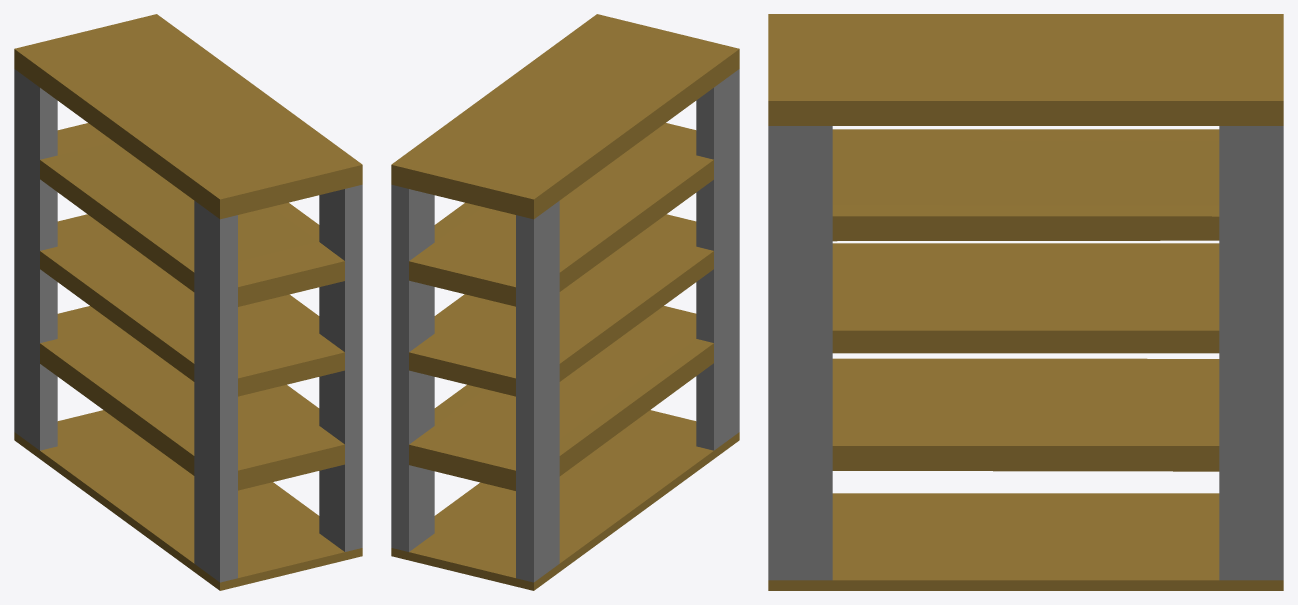
The model's file is Regal.fbx.
The picture shows the model from 3 angles, left to right: view 1: azimuth 30°, elevation 25°; view 2: azimuth 150°, elevation 25°; view 3: azimuth 270°, elevation 25°; orthographic projection. The views are drawn at different scales.
Visible parts, largest first — view 1: Cube; view 2: Cube; view 3: Cube.
Part boxes in pixels (x1,y1,x2,y2): Cube: (14, 14, 362, 590); Cube: (391, 14, 739, 590); Cube: (768, 14, 1283, 590).
Bounding box in the file's own units: 0.8 × 2.1 × 2.
